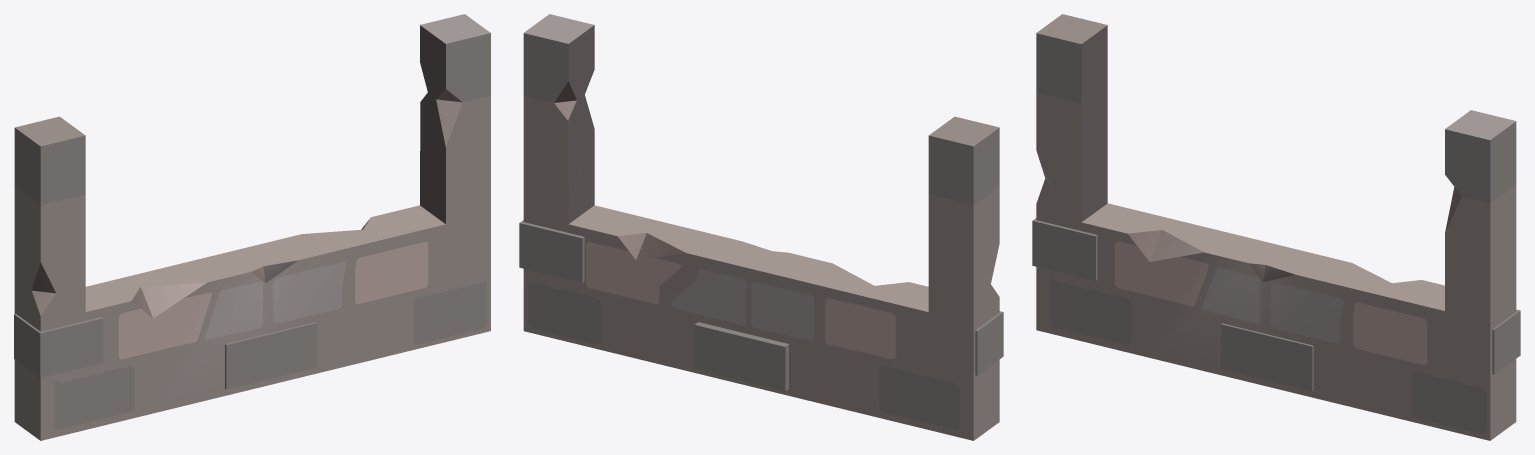
File: SM_SmallWall_07.fbx
3 views of the same model, side by side, from view 1: azimuth 30°, elevation 25°; view 2: azimuth 150°, elevation 25°; view 3: azimuth 330°, elevation 25° (orthographic).
Parts seen in each view (by area): view 1: SM_SmallWall_07; view 2: SM_SmallWall_07; view 3: SM_SmallWall_07.
Boxes of the visible parts, x1=… form: SM_SmallWall_07: x1=14, y1=14, x2=490, y2=440; SM_SmallWall_07: x1=519, y1=14, x2=1003, y2=440; SM_SmallWall_07: x1=1032, y1=14, x2=1520, y2=440.
Bounding box in the file's own units: 2.02 × 1.27 × 0.243.
